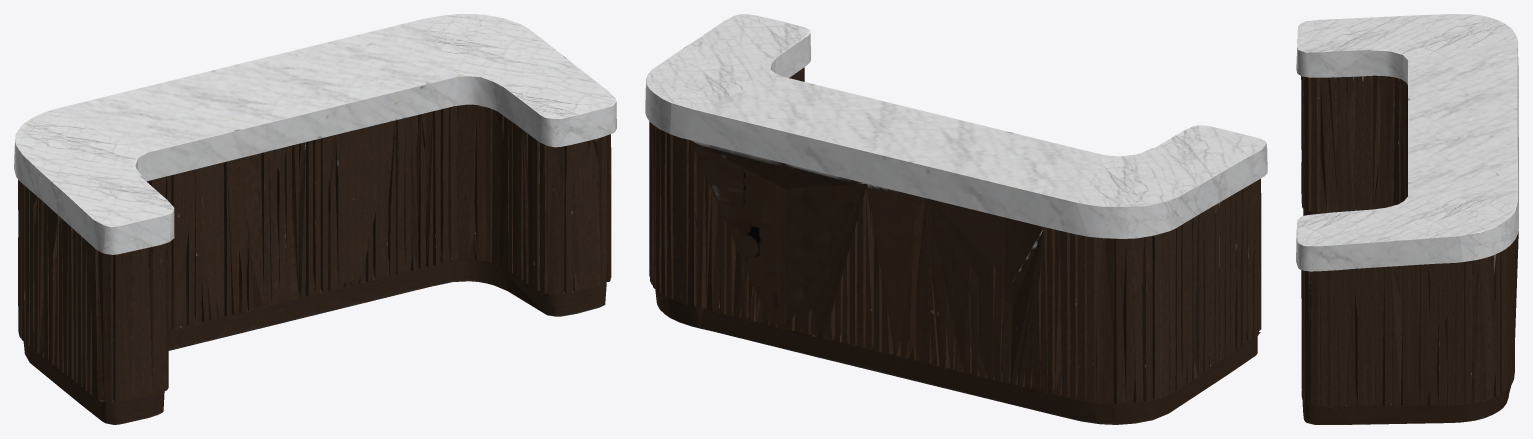
The model's file is concierge-desk.glb.
3 renders of one model, left to right at view 1: azimuth 30°, elevation 25°; view 2: azimuth 150°, elevation 25°; view 3: azimuth 270°, elevation 25°, orthographic. The views are drawn at different scales.
Visible parts, largest first — view 1: output_unwrapped; view 2: output_unwrapped; view 3: output_unwrapped.
Boxes of the visible parts, left/top/right/bottom form: output_unwrapped: left=14, top=14, right=616, bottom=424; output_unwrapped: left=645, top=14, right=1267, bottom=424; output_unwrapped: left=1296, top=14, right=1518, bottom=424.
Size of the model in its own units: 2.89 by 1.15 by 1.2.
Materials: 1 (1 with a texture image).
